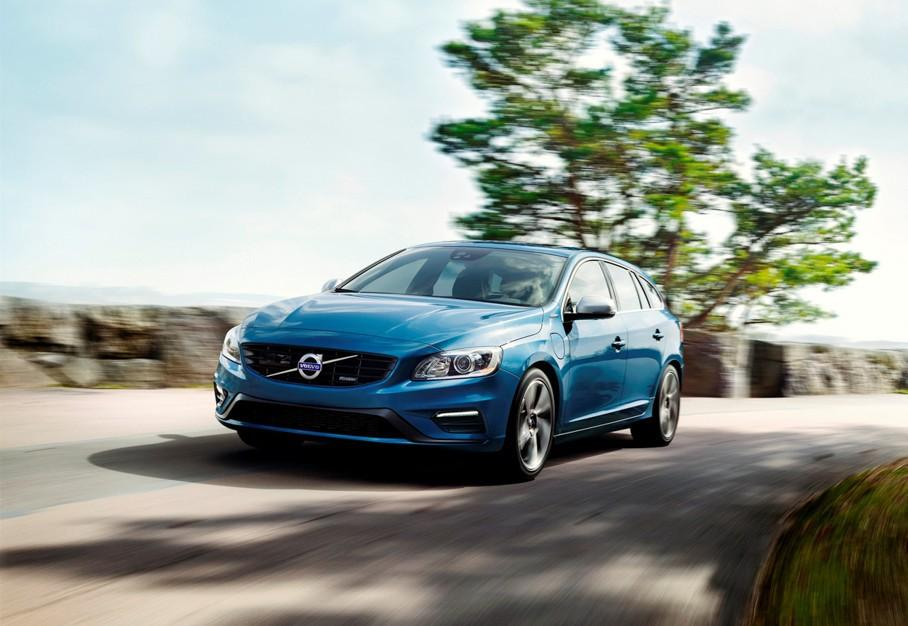Wagon: (212, 241, 686, 480)
